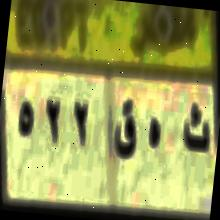2: (66, 86, 100, 148), (40, 94, 66, 141)
5: (12, 94, 38, 146)
haa: (140, 107, 170, 162)
qaaf: (112, 91, 142, 163)
thaa: (177, 96, 214, 159)
